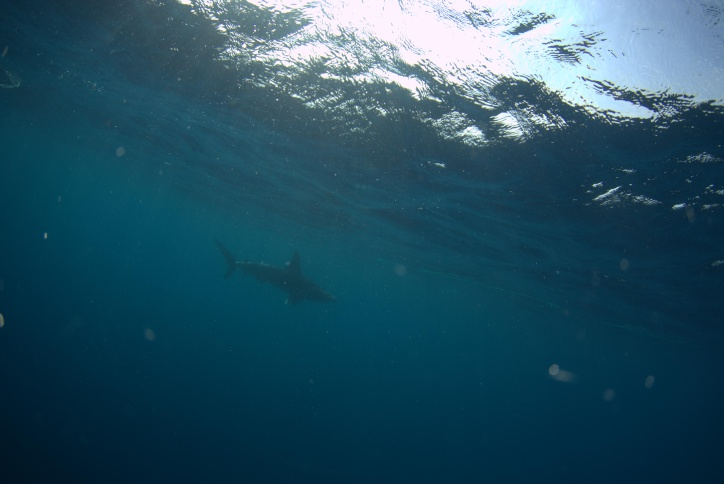Hammer: (208, 223, 347, 322)
